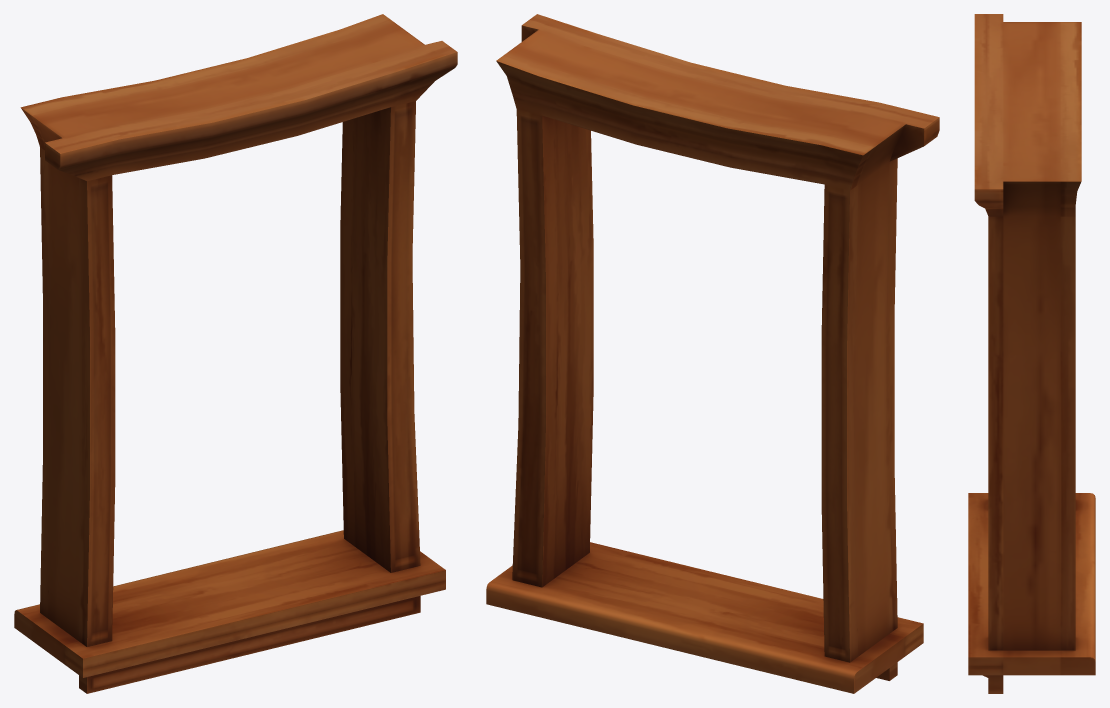
The model's file is PropWindow01TypeA_1_1.FBX.
The picture shows the model from 3 angles, left to right: view 1: azimuth 30°, elevation 25°; view 2: azimuth 150°, elevation 25°; view 3: azimuth 270°, elevation 25°; orthographic projection. The views are drawn at different scales.
Parts seen in each view (by area): view 1: PropWindow01TypeA_1_1; view 2: PropWindow01TypeA_1_1; view 3: PropWindow01TypeA_1_1.
Part boxes in pixels (box(x1,y1,x2,y2)): PropWindow01TypeA_1_1: box(14, 14, 457, 693); PropWindow01TypeA_1_1: box(486, 14, 939, 693); PropWindow01TypeA_1_1: box(968, 14, 1095, 693).
Size of what is drawn, in the model's own units: 1.49 by 2 by 0.4449.
